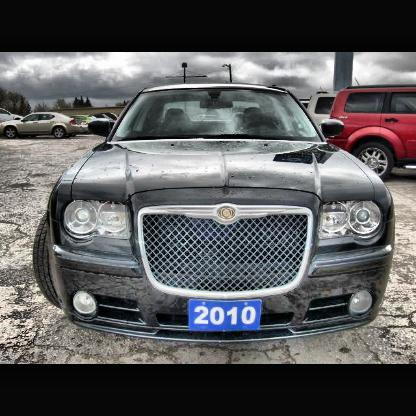Chrysler 300 SRT-8 2010: (33, 84, 397, 347)
